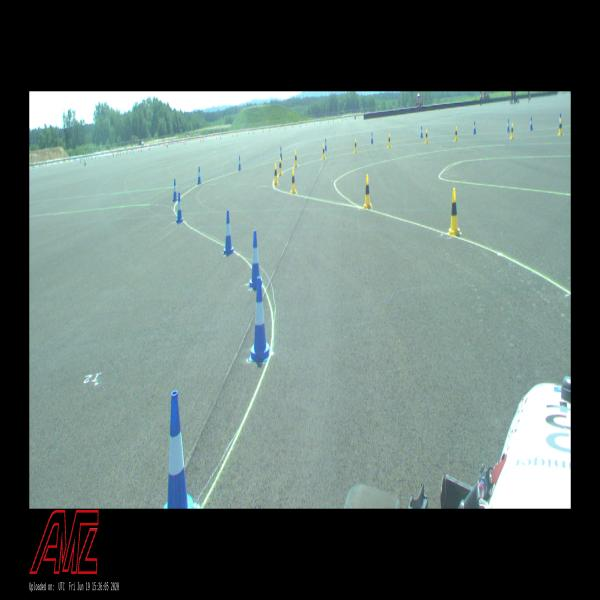blue_cone: (164, 390, 197, 508), (249, 276, 271, 360), (250, 230, 262, 288), (222, 210, 235, 255), (176, 192, 183, 223), (172, 180, 178, 202), (198, 166, 202, 184), (473, 120, 477, 134), (238, 155, 241, 170), (507, 118, 510, 132), (530, 117, 533, 130), (559, 114, 562, 127), (420, 126, 423, 137), (325, 138, 327, 151), (280, 147, 282, 159), (371, 132, 373, 143)
yellow_cone: (448, 188, 462, 236), (363, 174, 373, 209), (290, 168, 297, 194), (278, 157, 283, 176), (274, 163, 278, 185), (558, 119, 563, 136), (294, 150, 298, 168), (454, 126, 458, 142), (510, 123, 514, 139), (322, 144, 326, 159), (354, 138, 357, 154), (425, 129, 428, 144), (388, 133, 391, 147)
